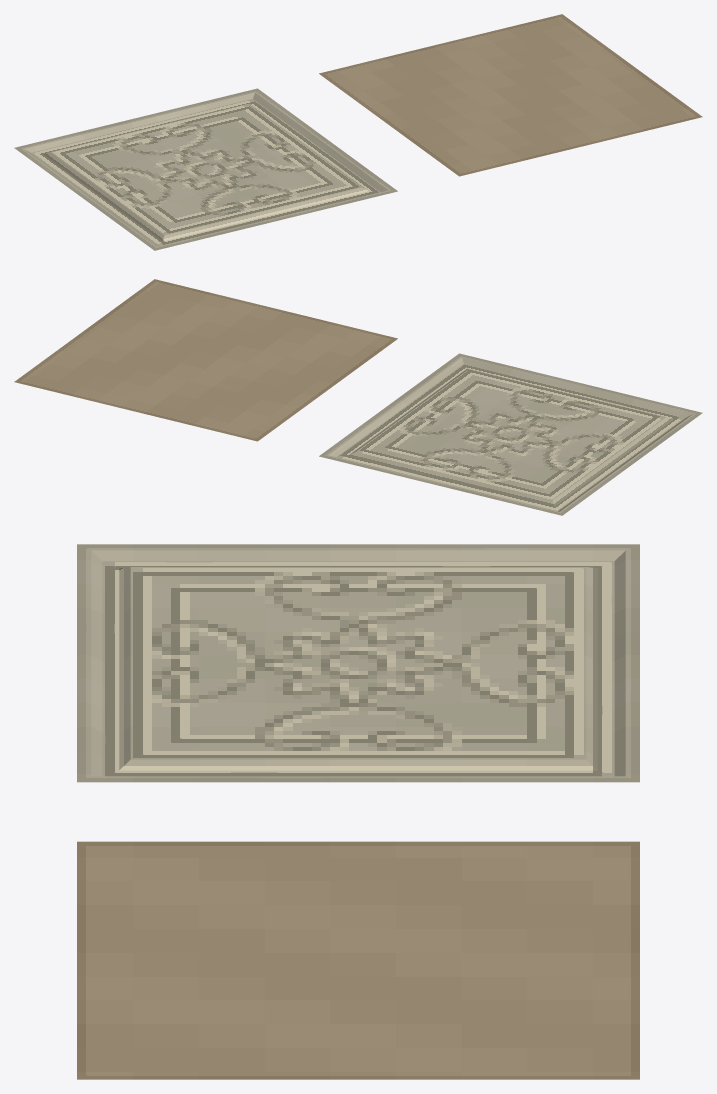
The model's file is ceiling_tiles.gltf.
3 views of the same model, one above another, from view 1: azimuth 30°, elevation 25°; view 2: azimuth 150°, elevation 25°; view 3: azimuth 270°, elevation 25° (orthographic). The views are drawn at different scales.
Parts seen in each view (by area): view 1: TinCeilingTile, BasicCeilingTile; view 2: TinCeilingTile, BasicCeilingTile; view 3: TinCeilingTile, BasicCeilingTile.
Boxes of the visible parts, x1=… form: TinCeilingTile: x1=14, y1=88, x2=397, y2=250; BasicCeilingTile: x1=319, y1=14, x2=702, y2=176; TinCeilingTile: x1=319, y1=353, x2=702, y2=515; BasicCeilingTile: x1=14, y1=279, x2=397, y2=441; TinCeilingTile: x1=77, y1=544, x2=639, y2=782; BasicCeilingTile: x1=77, y1=841, x2=639, y2=1079.
Size of the model in its own units: 2.25 by 0.012 by 1.
Materials: 1 (1 with a texture image).
